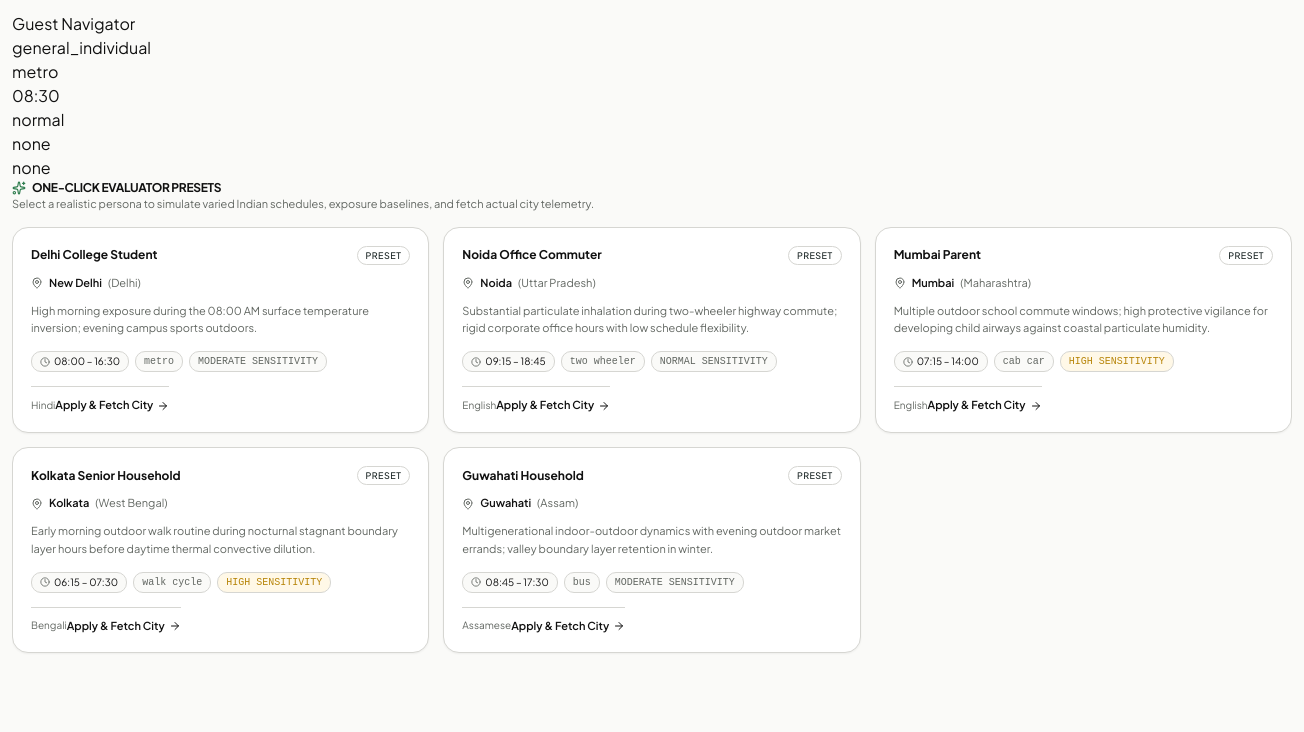
Test case: VayuVerse User Profile & Personalization System › switches persona when a preset card is clicked and synchronizes city location
expect the text with test id "active-profile-name" reads "Guest Navigator": met, box [12,13,135,34]
expect the text with test id "active-preset-id" reads "none": met, box [12,133,51,154]
Click "Noida Office Commuter" preset
What coordinates should you click on to do the following:
click the button with test id "preset-card-noida_commuter"
I would click on:
 (652, 330)
Its box is [443,226,861,433].
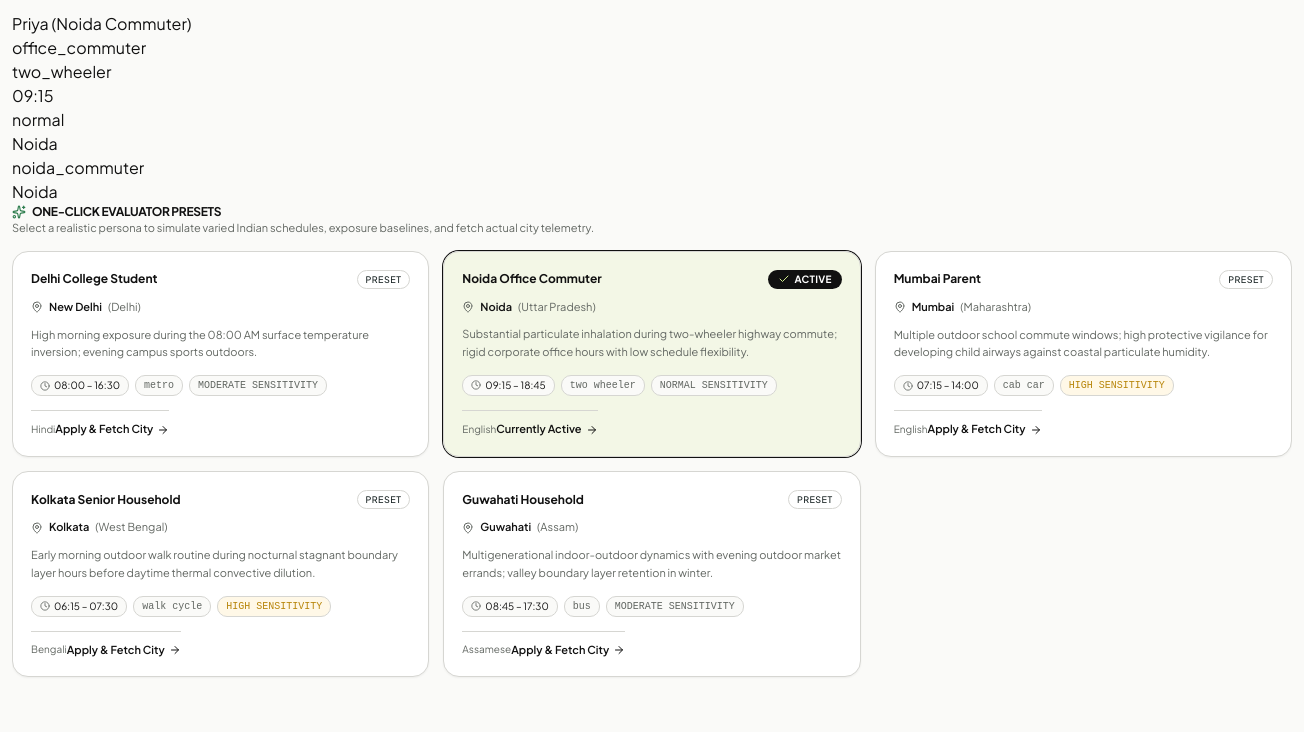
expect the text with test id "active-profile-name" reads "Priya (Noida Commuter)": met, box [12,13,192,34]
expect the text with test id "active-category" reads "office_commuter": met, box [12,37,146,58]
expect the text with test id "active-commute" reads "two_wheeler": met, box [12,61,111,82]
